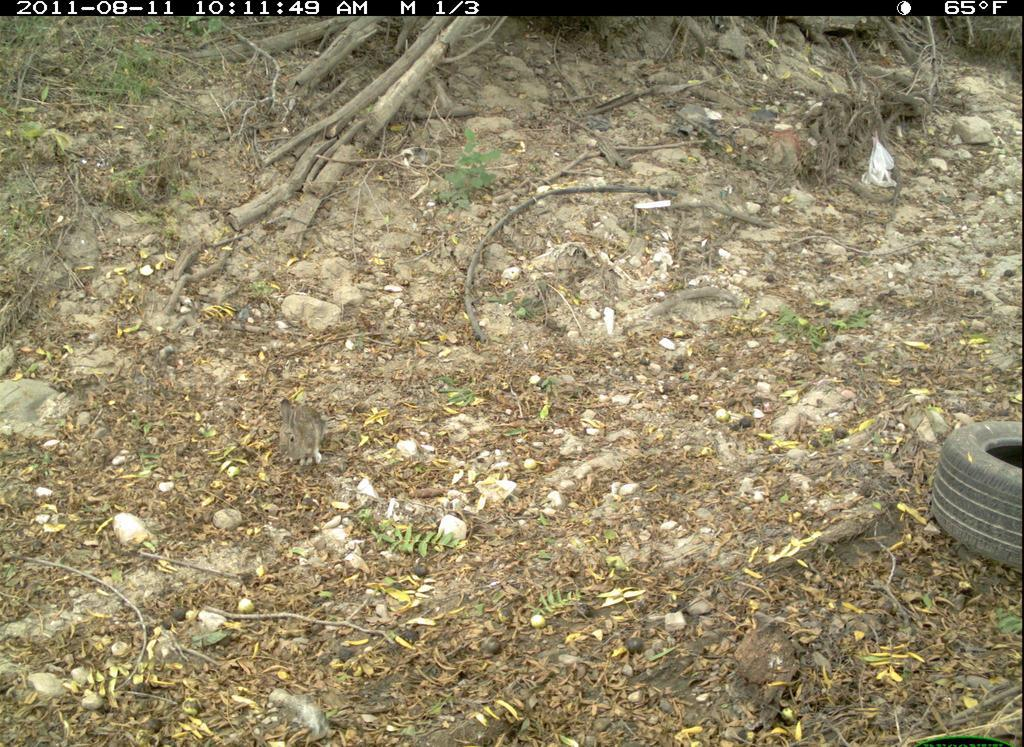rabbit: (273, 392, 337, 478)
